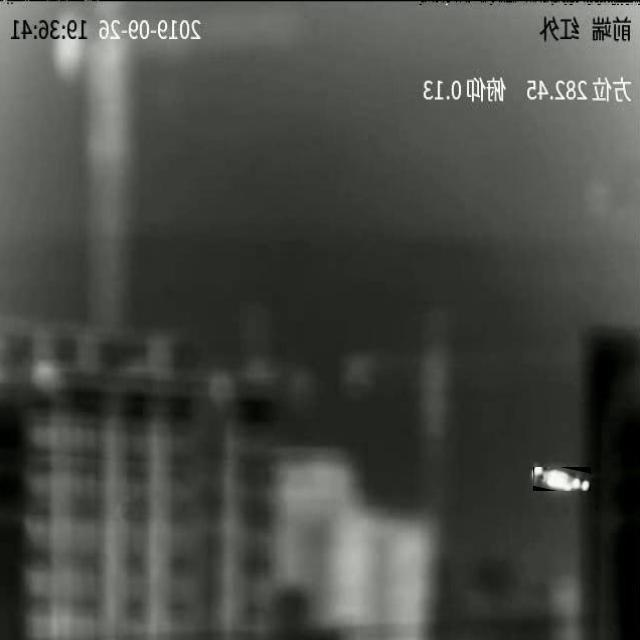drone: (533, 467, 590, 491)
